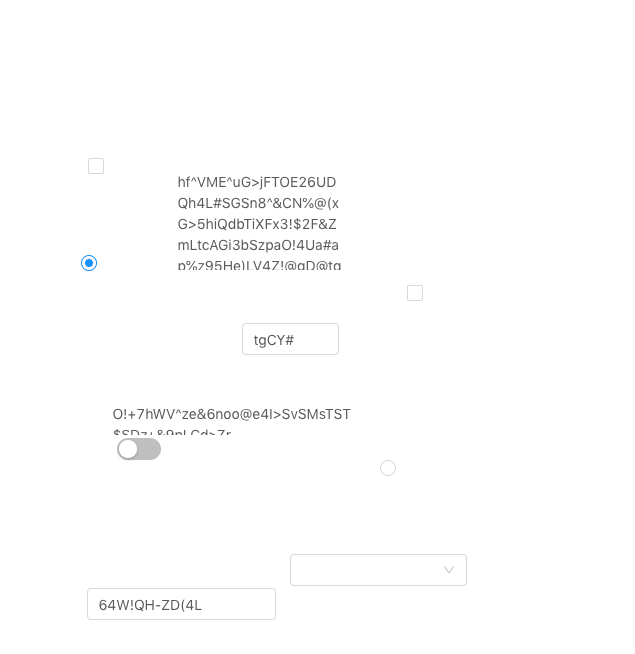Checkbox: (88, 155, 104, 176), (407, 282, 423, 303)
Input: (87, 588, 276, 620), (242, 323, 339, 355)
Radio: (81, 252, 97, 272), (380, 457, 396, 477)
Select: (290, 554, 467, 586)
Switch: (117, 437, 161, 461)
Text: (178, 171, 347, 270), (113, 403, 356, 435)
